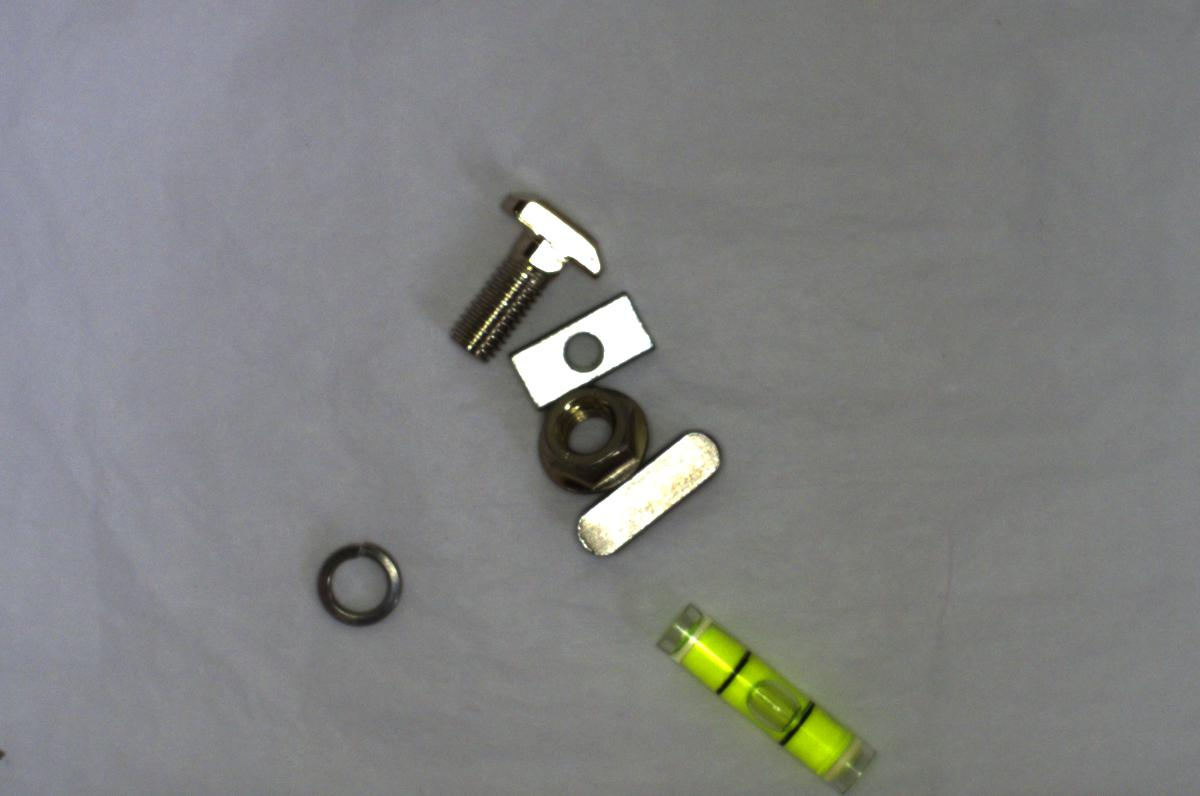Flange nut: (524, 385, 662, 500)
Horizontal bubble: (644, 593, 882, 794)
Keybar: (565, 427, 722, 559)
Rectangular nut: (504, 286, 664, 407)
Spring washer: (311, 534, 408, 626)
T-shaped screw: (445, 181, 601, 361)
